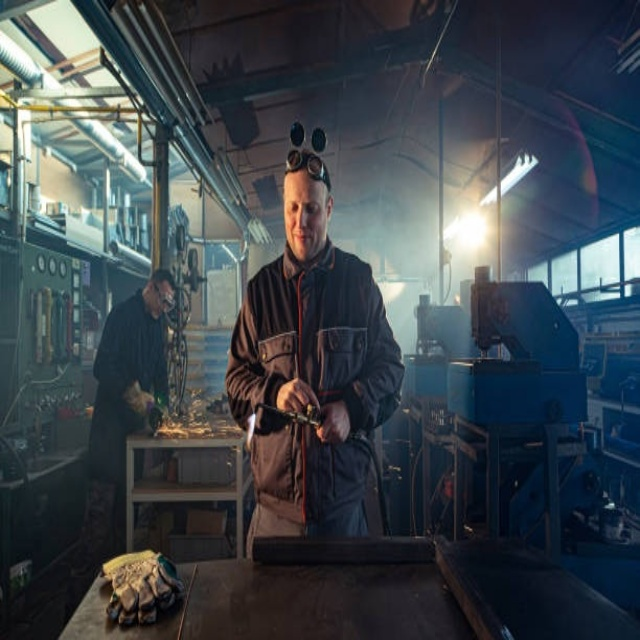Gafas: (152, 279, 176, 315)
Guantes: (119, 378, 157, 424)
Sin_gafas: (283, 193, 323, 223)
Sin_guantes: (279, 376, 322, 422), (312, 396, 351, 446)
Sin_mascara: (290, 226, 314, 253)
